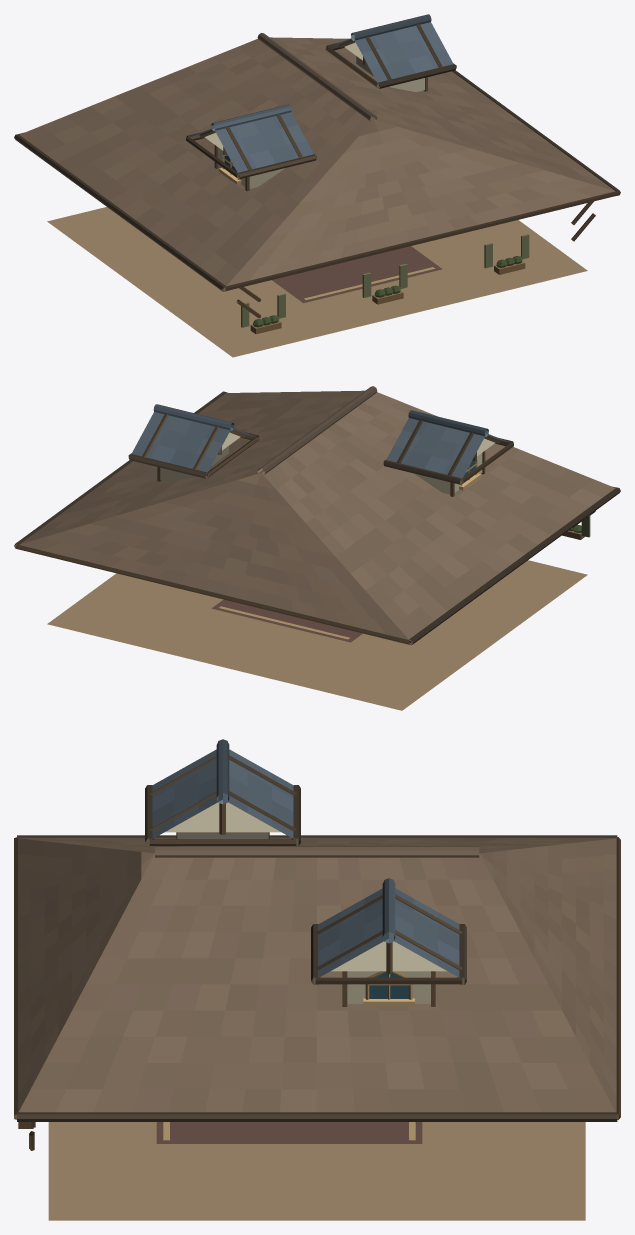
The picture shows the model from 3 angles, top to bottom: view 1: azimuth 30°, elevation 25°; view 2: azimuth 150°, elevation 25°; view 3: azimuth 270°, elevation 25°; orthographic projection. The views are drawn at different scales.
Parts seen in each view (by area): view 1: 8fbb50957bbac786fc495c93f0ff295de17ee8454977a424ffb221080b93; view 2: 8fbb50957bbac786fc495c93f0ff295de17ee8454977a424ffb221080b93; view 3: 8fbb50957bbac786fc495c93f0ff295de17ee8454977a424ffb221080b93.
Boxes of the visible parts, bbox=[...] form: 8fbb50957bbac786fc495c93f0ff295de17ee8454977a424ffb221080b93: bbox=[14, 14, 620, 357]; 8fbb50957bbac786fc495c93f0ff295de17ee8454977a424ffb221080b93: bbox=[14, 386, 620, 710]; 8fbb50957bbac786fc495c93f0ff295de17ee8454977a424ffb221080b93: bbox=[14, 739, 620, 1220].
Size of the model in its own units: 12.02 by 5.19 by 10.97.
6 materials, 1 textured.
